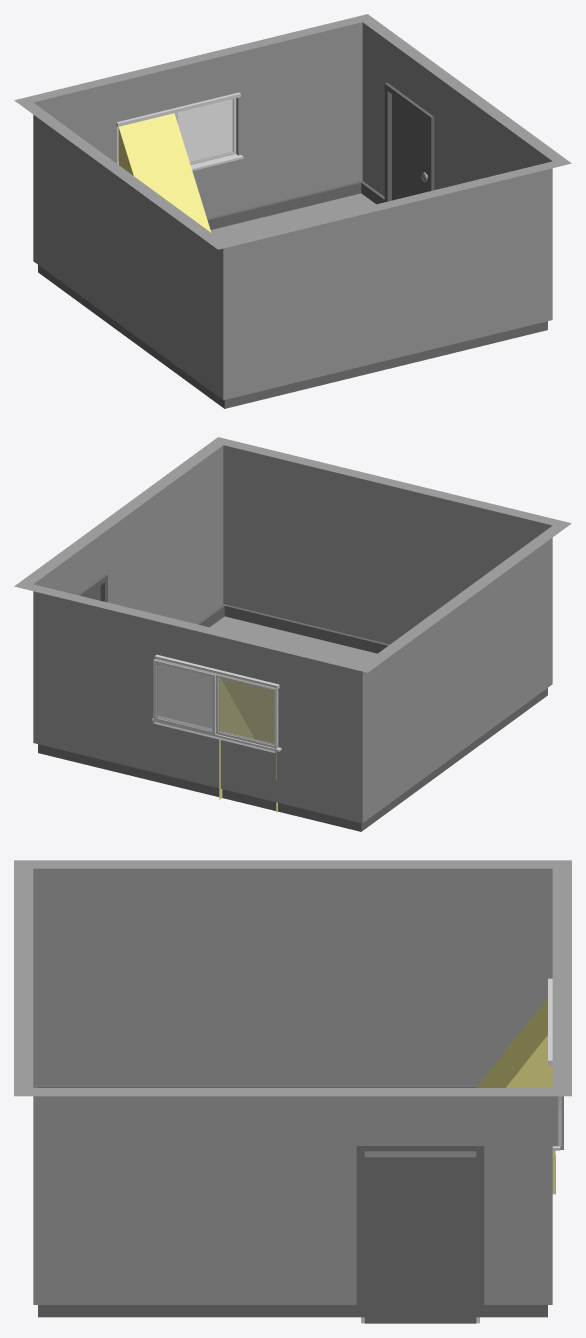
Rendered from room_0002.fbx.
3 views of the same model, one above another, from view 1: azimuth 30°, elevation 25°; view 2: azimuth 150°, elevation 25°; view 3: azimuth 270°, elevation 25° (orthographic). The views are drawn at different scales.
Parts seen in each view (by area): view 1: roomWall_geo, windowLight_geo, roomDoor_geo, pCube4, roomFloor_geo, pCube2; view 2: roomWall_geo, roomFloor_geo, pCube4, pCube3, windowLight_geo, pCube2, pCube1; view 3: roomWall_geo, roomDoor_geo, windowLight_geo.
Part boxes in pixels (bbox=[...]): roomWall_geo: bbox=[14, 14, 571, 408]; windowLight_geo: bbox=[118, 113, 211, 232]; roomDoor_geo: bbox=[392, 94, 428, 200]; pCube4: bbox=[177, 98, 236, 164]; roomFloor_geo: bbox=[210, 193, 375, 241]; pCube2: bbox=[116, 92, 240, 126]; roomWall_geo: bbox=[14, 437, 571, 831]; roomFloor_geo: bbox=[157, 616, 376, 728]; pCube4: bbox=[154, 660, 215, 734]; pCube3: bbox=[216, 675, 277, 748]; windowLight_geo: bbox=[219, 678, 277, 812]; pCube2: bbox=[154, 654, 279, 689]; pCube1: bbox=[152, 715, 281, 751]; roomWall_geo: bbox=[14, 860, 571, 1317]; roomDoor_geo: bbox=[364, 1154, 476, 1323]; windowLight_geo: bbox=[476, 998, 555, 1194].
Size of what is drawn, in the model's own units: 8.75 by 4 by 8.75.
